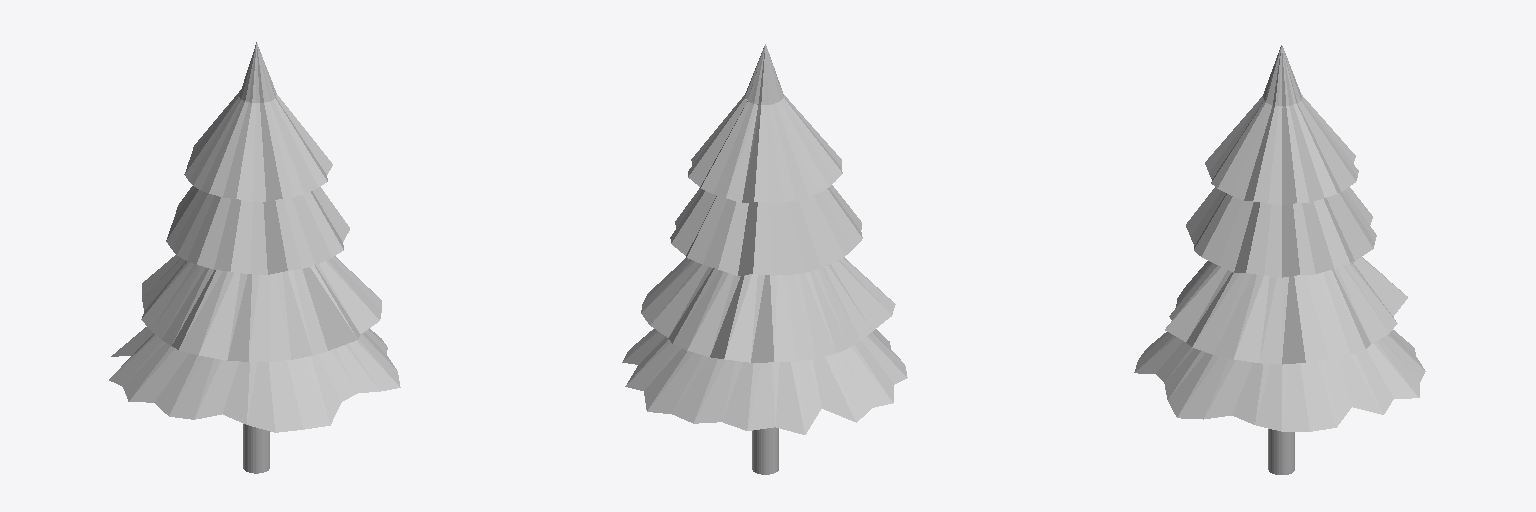
Rendered from TreeConifer.obj.
3 views of the same model, side by side, from view 1: azimuth 30°, elevation 25°; view 2: azimuth 150°, elevation 25°; view 3: azimuth 270°, elevation 25° (orthographic).
Visible parts, largest first — view 1: Cylinder, Cylinder.001; view 2: Cylinder, Cylinder.001; view 3: Cylinder, Cylinder.001.
Part boxes in pixels (bbox=[...]): Cylinder: bbox=[109, 42, 400, 432]; Cylinder.001: bbox=[243, 424, 269, 473]; Cylinder: bbox=[622, 44, 907, 434]; Cylinder.001: bbox=[752, 427, 778, 474]; Cylinder: bbox=[1134, 45, 1425, 431]; Cylinder.001: bbox=[1268, 429, 1294, 474].
Size of the model in its own units: 0.8 by 1.29 by 0.8.